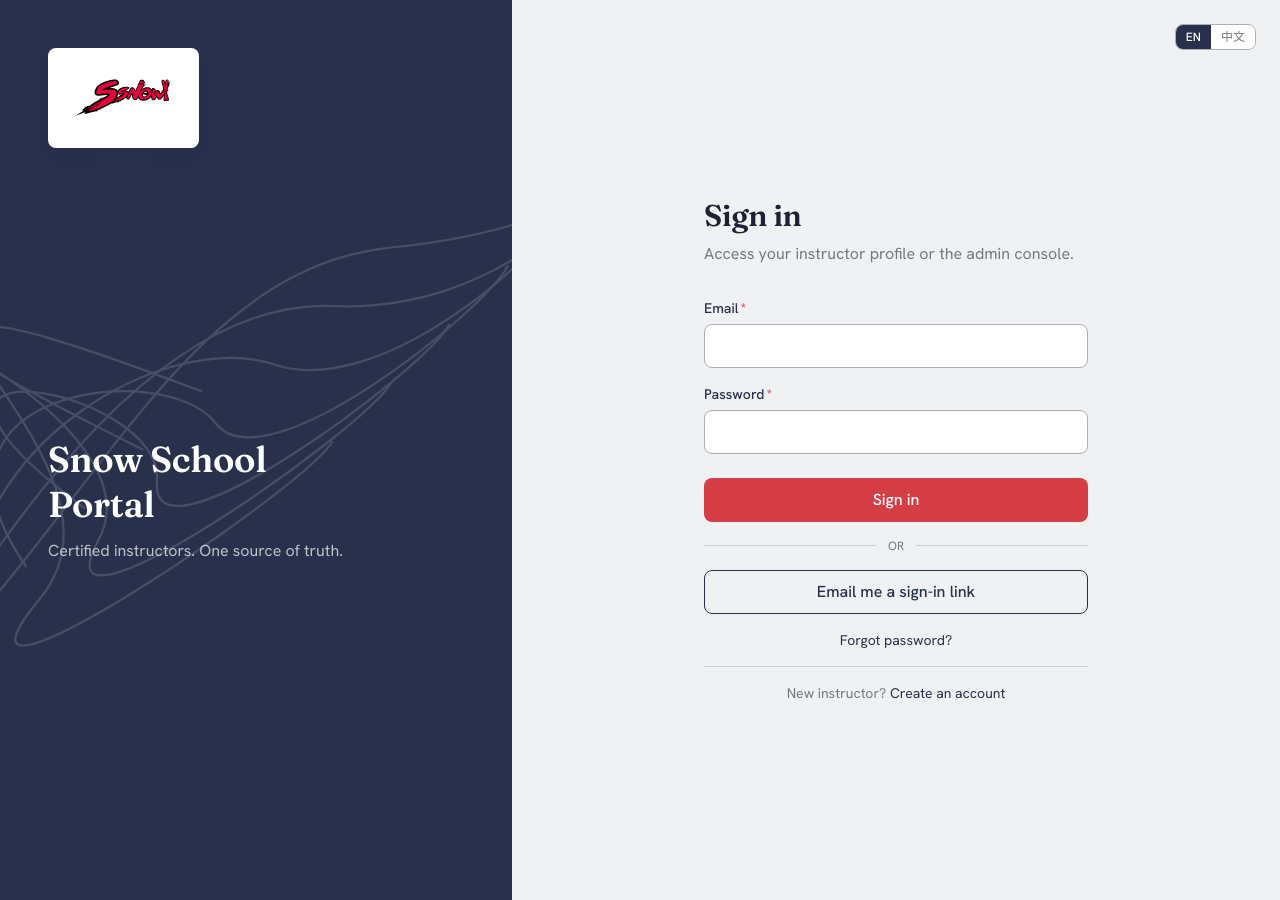
Test: LoginPage magic link › requests a link without creating users and confirms generically
This screenshot has width=1280, height=900.
In the field labelled "Email*": (896, 346) [704,324,1088,368], type " jane@example.com "
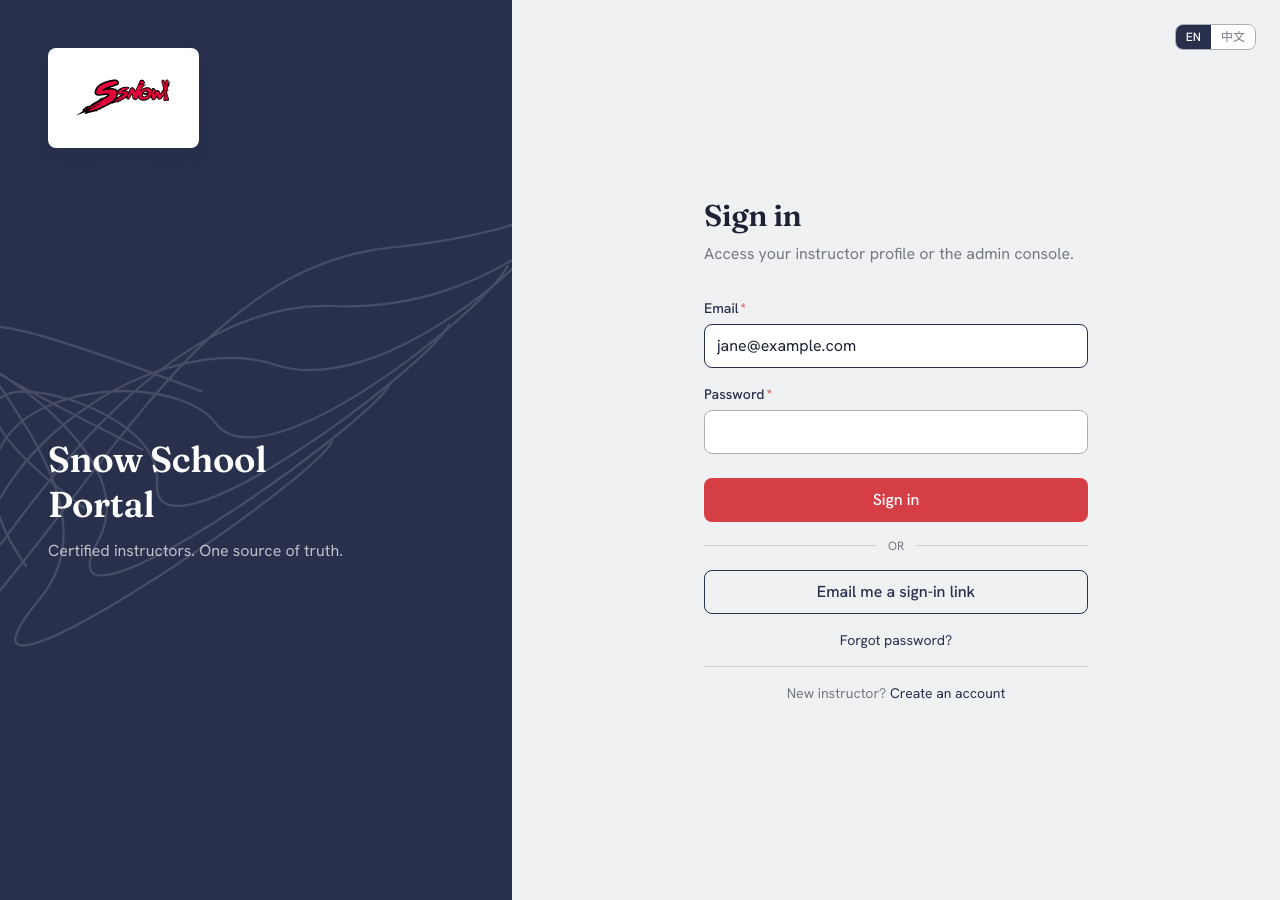
Click the 2nd button named "Email me a sign-in link": (896, 592) [704,570,1088,614]
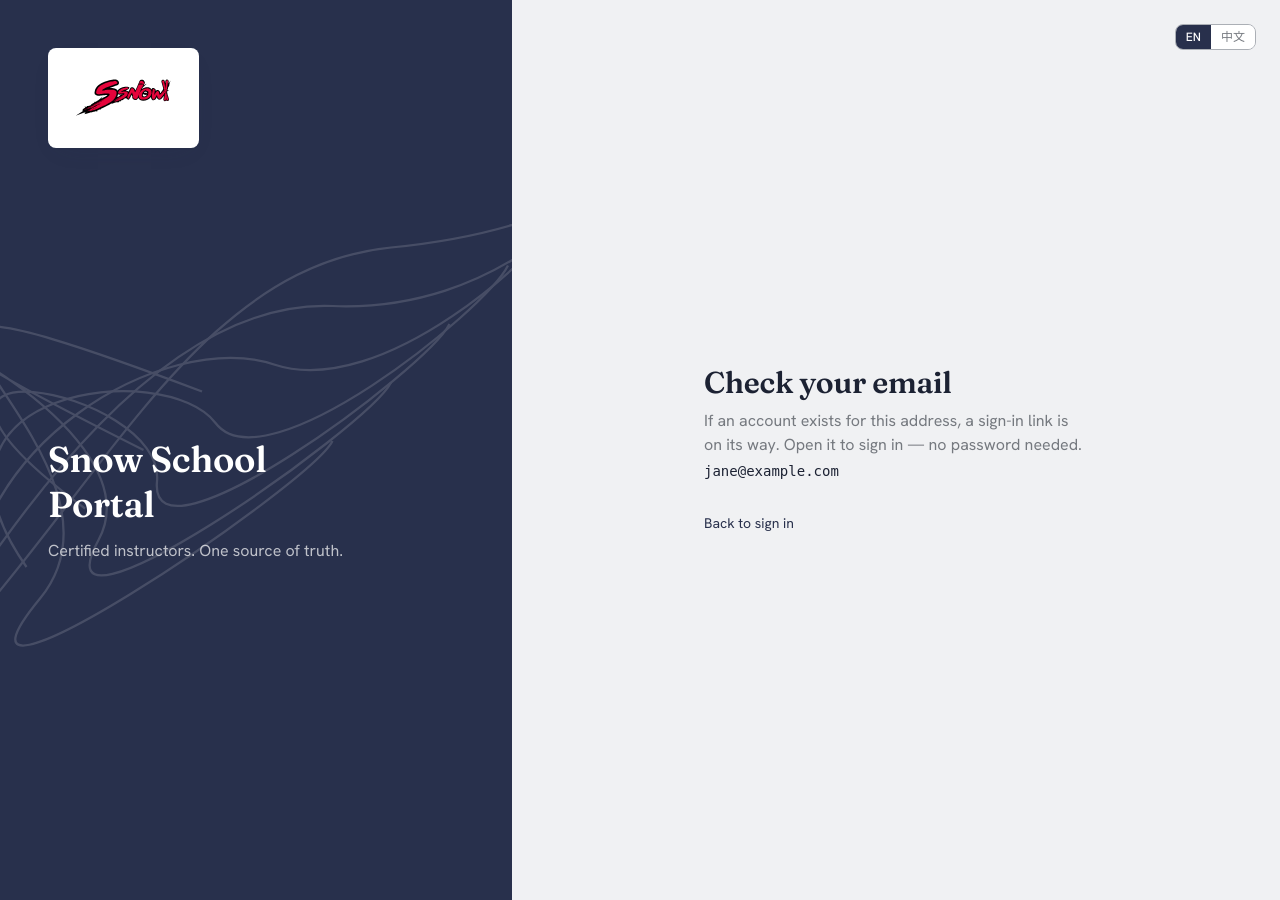
Expected: the heading "Check your email" is shown, [704,364,951,401]
Expected: the text "If an account exists for this address" is shown, [704,410,1082,455]
